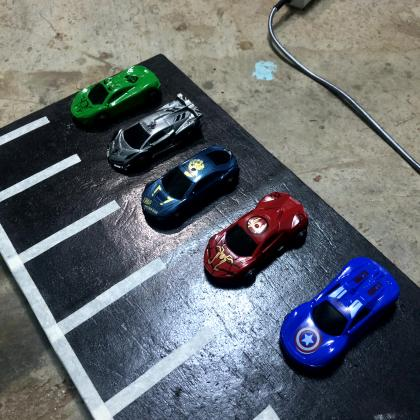Car: (280, 256, 402, 369), (202, 190, 308, 282), (141, 143, 241, 223), (106, 92, 202, 173), (71, 63, 161, 126)
